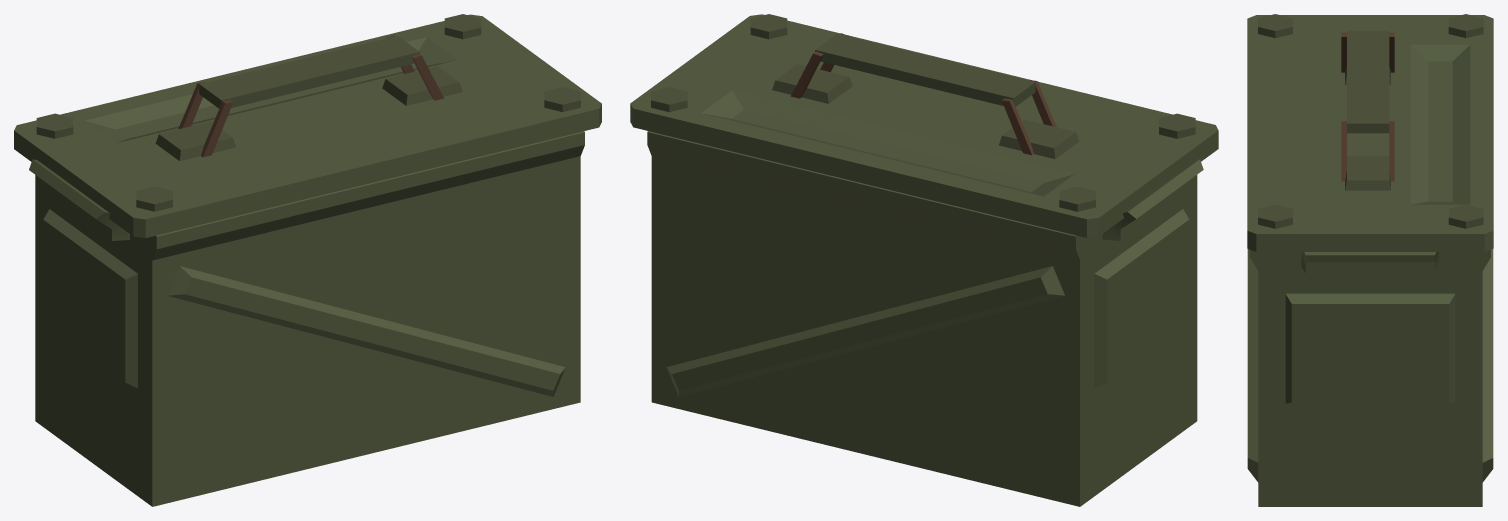
The model's file is SM_Prop_AmmoBox_03.fbx.
The picture shows the model from 3 angles, left to right: view 1: azimuth 30°, elevation 25°; view 2: azimuth 150°, elevation 25°; view 3: azimuth 270°, elevation 25°; orthographic projection. The views are drawn at different scales.
Visible parts, largest first — view 1: SM_Prop_AmmoBox_03, SM_Prop_AmmoBox_03_Lid; view 2: SM_Prop_AmmoBox_03, SM_Prop_AmmoBox_03_Lid; view 3: SM_Prop_AmmoBox_03, SM_Prop_AmmoBox_03_Lid.
Boxes of the visible parts, x1,y1,x2,y2 form: SM_Prop_AmmoBox_03: (29, 131, 584, 506); SM_Prop_AmmoBox_03_Lid: (14, 14, 601, 237); SM_Prop_AmmoBox_03: (647, 131, 1203, 506); SM_Prop_AmmoBox_03_Lid: (630, 14, 1218, 237); SM_Prop_AmmoBox_03: (1247, 249, 1493, 506); SM_Prop_AmmoBox_03_Lid: (1247, 14, 1493, 251).
Bounding box in the file's own units: 52.68 × 36.15 × 24.49.
